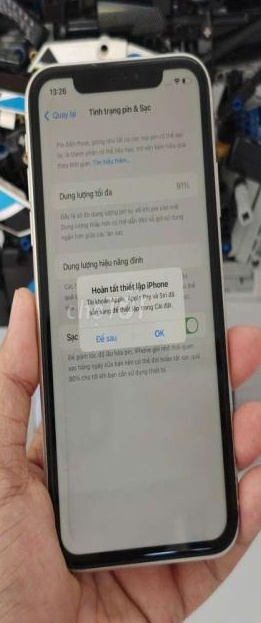scratch: (76, 45, 142, 81)
